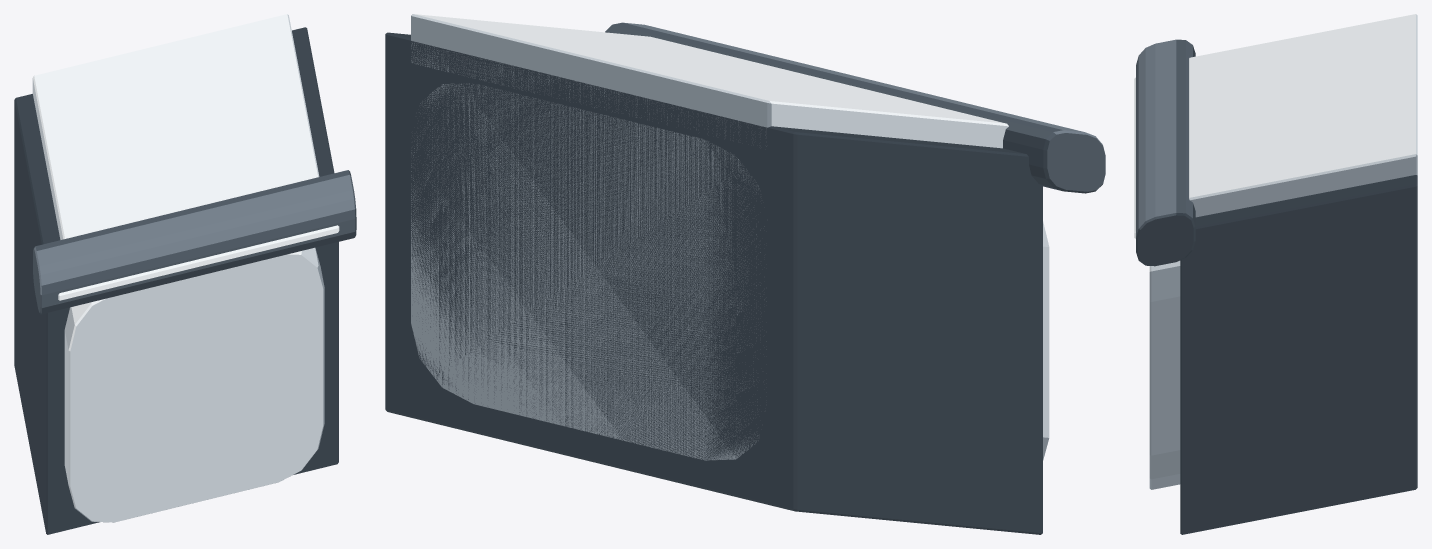
Rendered from Terrain_TopRun1LR.gltf.
3 renders of one model, left to right at view 1: azimuth 30°, elevation 25°; view 2: azimuth 150°, elevation 25°; view 3: azimuth 270°, elevation 25°, orthographic. The views are drawn at different scales.
Parts seen in each view (by area): view 1: Terrain_TopRun1LR_baked; view 2: Terrain_TopRun1LR_baked; view 3: Terrain_TopRun1LR_baked.
Part boxes in pixels (x1,y1,x2,y2): Terrain_TopRun1LR_baked: (14, 14, 356, 534); Terrain_TopRun1LR_baked: (385, 14, 1105, 534); Terrain_TopRun1LR_baked: (1134, 14, 1417, 534).
Bounding box in the file's own units: 1.33 × 1.18 × 0.74.
